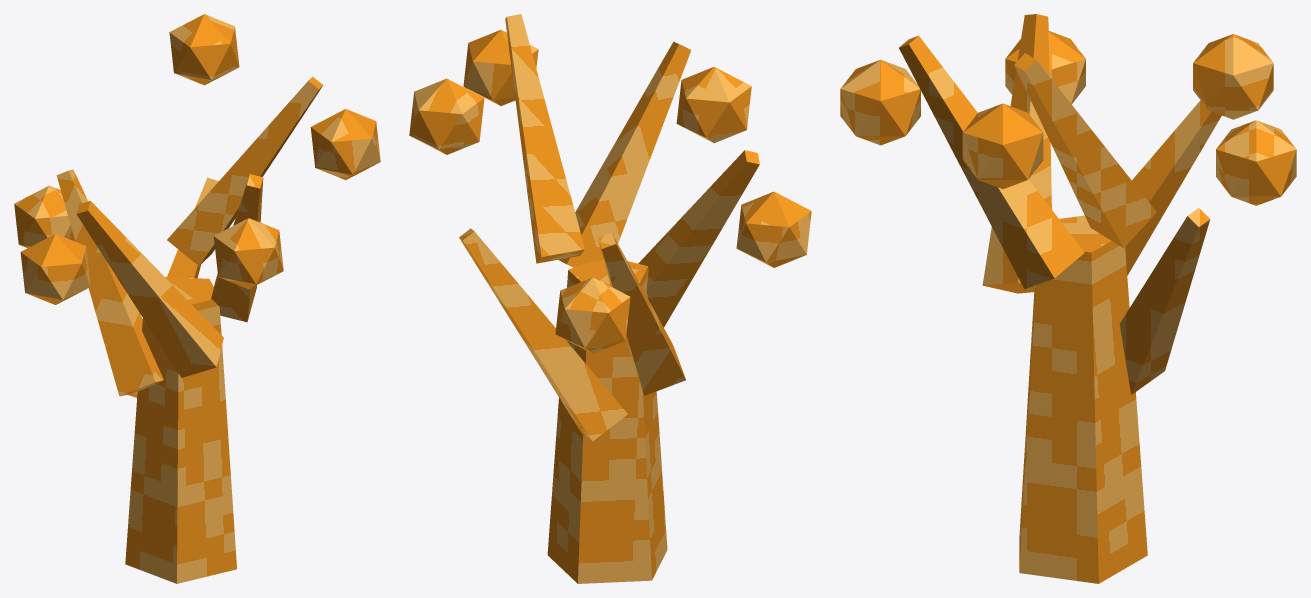
File: r06_recife_2.glb
The picture shows the model from 3 angles, left to right: view 1: azimuth 30°, elevation 25°; view 2: azimuth 150°, elevation 25°; view 3: azimuth 270°, elevation 25°; orthographic projection. The views are drawn at different scales.
Parts seen in each view (by area): view 1: r06_recife_2; view 2: r06_recife_2; view 3: r06_recife_2.
Boxes of the visible parts, x1=… form: r06_recife_2: x1=14, y1=14, x2=380, y2=583; r06_recife_2: x1=409, y1=14, x2=811, y2=583; r06_recife_2: x1=840, y1=14, x2=1296, y2=583.
Bounding box in the file's own units: 1.17 × 1.6 × 1.16.
1 material, 1 textured.
